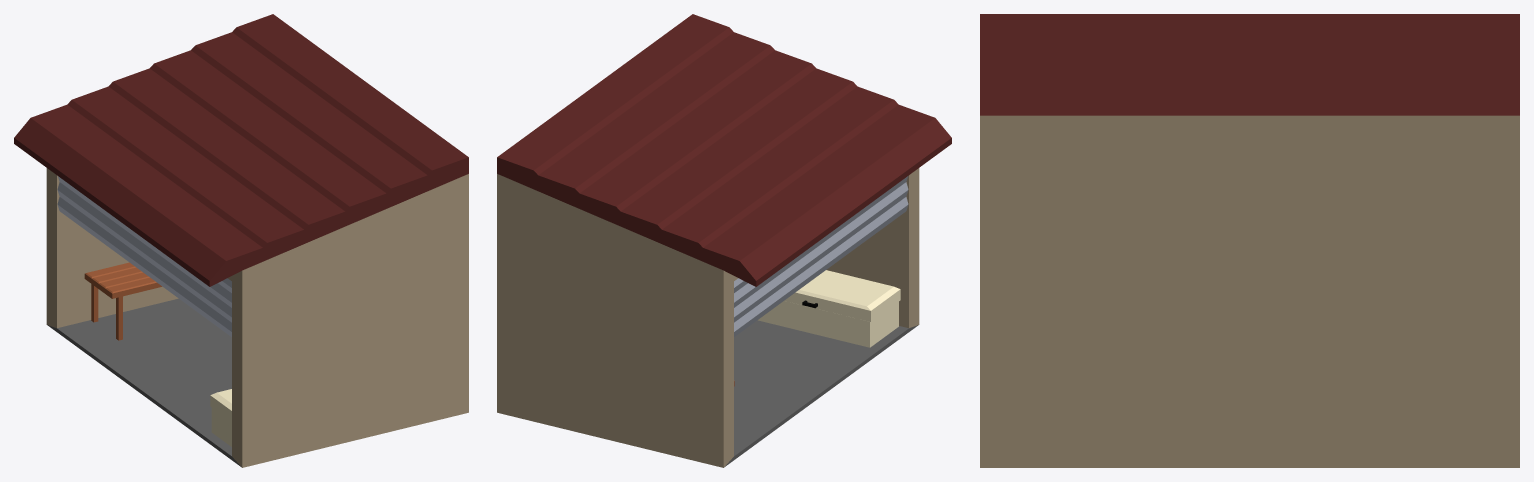
Rendered from Garage.fbx.
3 views of the same model, side by side, from view 1: azimuth 30°, elevation 25°; view 2: azimuth 150°, elevation 25°; view 3: azimuth 270°, elevation 25° (orthographic). The views are drawn at different scales.
Parts seen in each view (by area): view 1: Cube.012, Cube.013, Cube.014; view 2: Cube.012, Cube.014; view 3: Cube.012.
Boxes of the visible parts, x1=… form: Cube.012: x1=14, y1=14, x2=468, y2=467; Cube.013: x1=84, y1=262, x2=161, y2=340; Cube.014: x1=210, y1=389, x2=231, y2=446; Cube.012: x1=497, y1=14, x2=951, y2=467; Cube.014: x1=758, y1=270, x2=900, y2=347; Cube.012: x1=980, y1=14, x2=1519, y2=467.
Bounding box in the file's own units: 12515 × 11793 × 16375.
